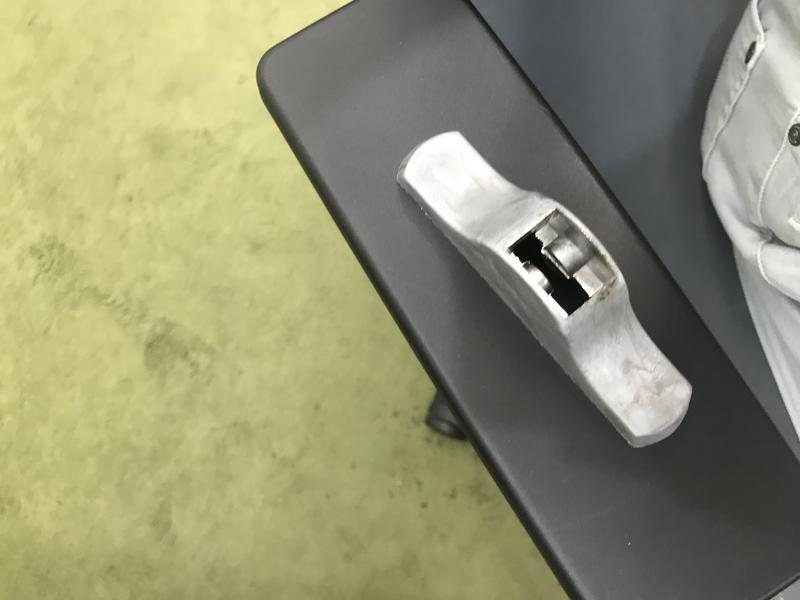zapchast: (389, 124, 701, 460)
